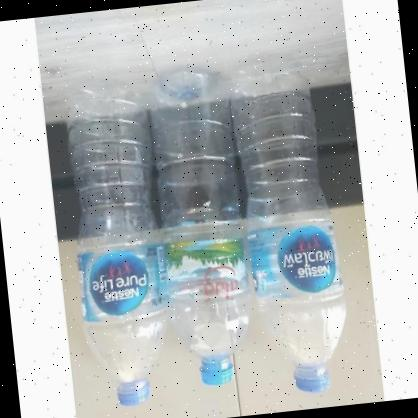bottle: (227, 57, 358, 400), (58, 76, 179, 408), (146, 65, 258, 390)
cap: (198, 356, 235, 387), (292, 366, 332, 394), (115, 378, 152, 407)
label: (245, 217, 344, 301), (76, 240, 167, 325), (164, 224, 244, 304)
